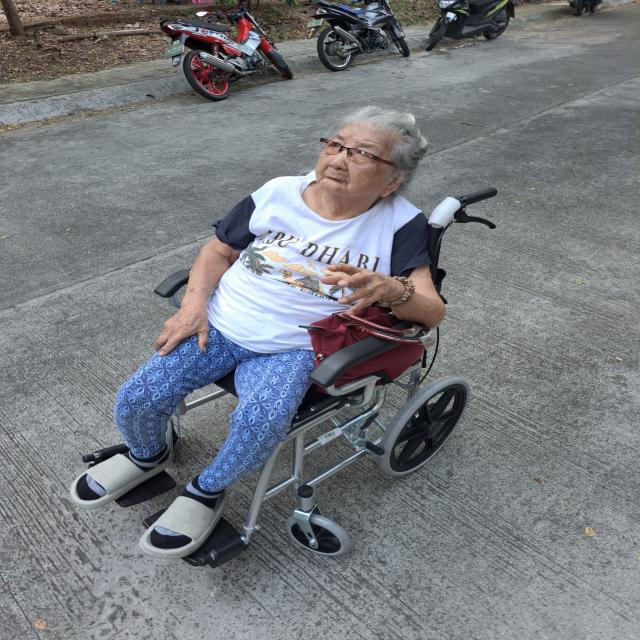wheelchairs: (78, 252, 479, 564)
